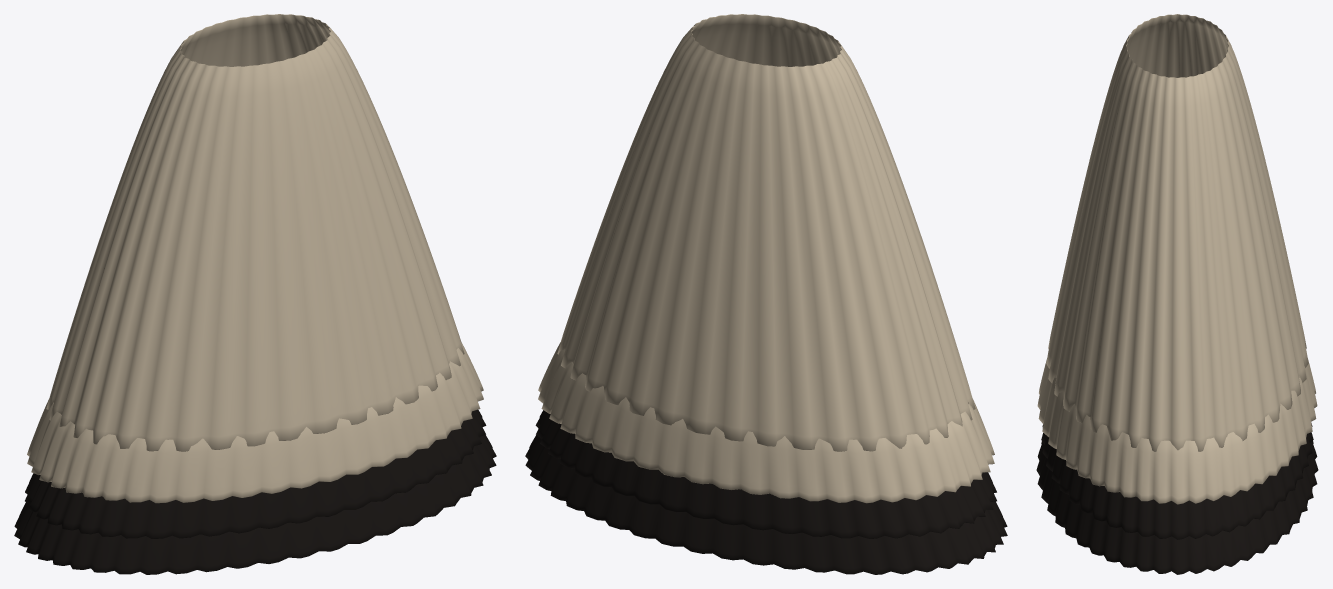
Rendered from inspection.glb.
3 renders of one model, left to right at view 1: azimuth 30°, elevation 25°; view 2: azimuth 150°, elevation 25°; view 3: azimuth 270°, elevation 25°, orthographic. The views are drawn at different scales.
Visible parts, largest first — view 1: 01 / ivory inner petticoat / gathered quad shell, 01 / ivory gathered lower flounce, 01 / black inner petticoat tier 3, 01 / black inner petticoat tier 2; view 2: 01 / ivory inner petticoat / gathered quad shell, 01 / ivory gathered lower flounce, 01 / black inner petticoat tier 3, 01 / black inner petticoat tier 2; view 3: 01 / ivory inner petticoat / gathered quad shell, 01 / ivory gathered lower flounce, 01 / black inner petticoat tier 3, 01 / black inner petticoat tier 2.
Part boxes in pixels (left/top/right/bottom): 01 / ivory inner petticoat / gathered quad shell: left=46, top=14, right=464, bottom=451; 01 / ivory gathered lower flounce: left=27, top=342, right=483, bottom=503; 01 / black inner petticoat tier 3: left=14, top=435, right=496, bottom=574; 01 / black inner petticoat tier 2: left=25, top=409, right=486, bottom=538; 01 / ivory inner petticoat / gathered quad shell: left=557, top=14, right=975, bottom=451; 01 / ivory gathered lower flounce: left=538, top=342, right=994, bottom=503; 01 / black inner petticoat tier 3: left=525, top=435, right=1007, bottom=574; 01 / black inner petticoat tier 2: left=535, top=410, right=996, bottom=538; 01 / ivory inner petticoat / gathered quad shell: left=1046, top=14, right=1308, bottom=451; 01 / ivory gathered lower flounce: left=1037, top=359, right=1317, bottom=504; 01 / black inner petticoat tier 3: left=1036, top=441, right=1318, bottom=574; 01 / black inner petticoat tier 2: left=1041, top=423, right=1313, bottom=539.
Bounding box in the file's own units: 0.4103 × 0.3905 × 0.2344.
